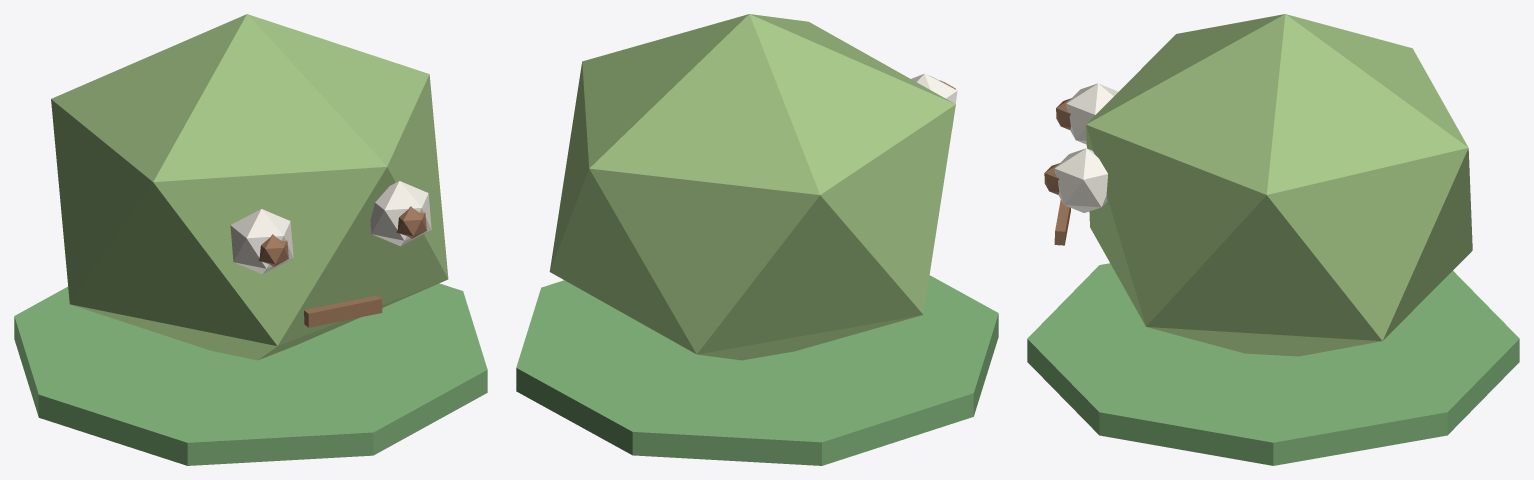
File: npcpose_slime_idle_11.glb
3 renders of one model, left to right at view 1: azimuth 30°, elevation 25°; view 2: azimuth 150°, elevation 25°; view 3: azimuth 270°, elevation 25°, orthographic.
Visible parts, largest first — view 1: npcpose; view 2: npcpose; view 3: npcpose.
Part boxes in pixels (bbox=[...]): npcpose: bbox=[14, 14, 487, 465]; npcpose: bbox=[516, 14, 998, 465]; npcpose: bbox=[1027, 14, 1519, 465].
Bounding box in the file's own units: 0.96 × 0.7505 × 0.96.
